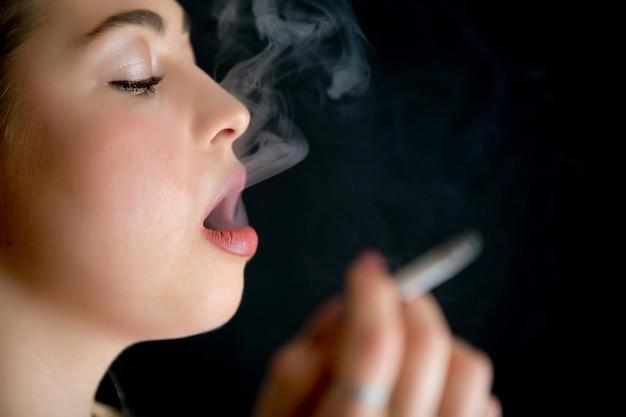cigarette: (395, 230, 481, 300)
